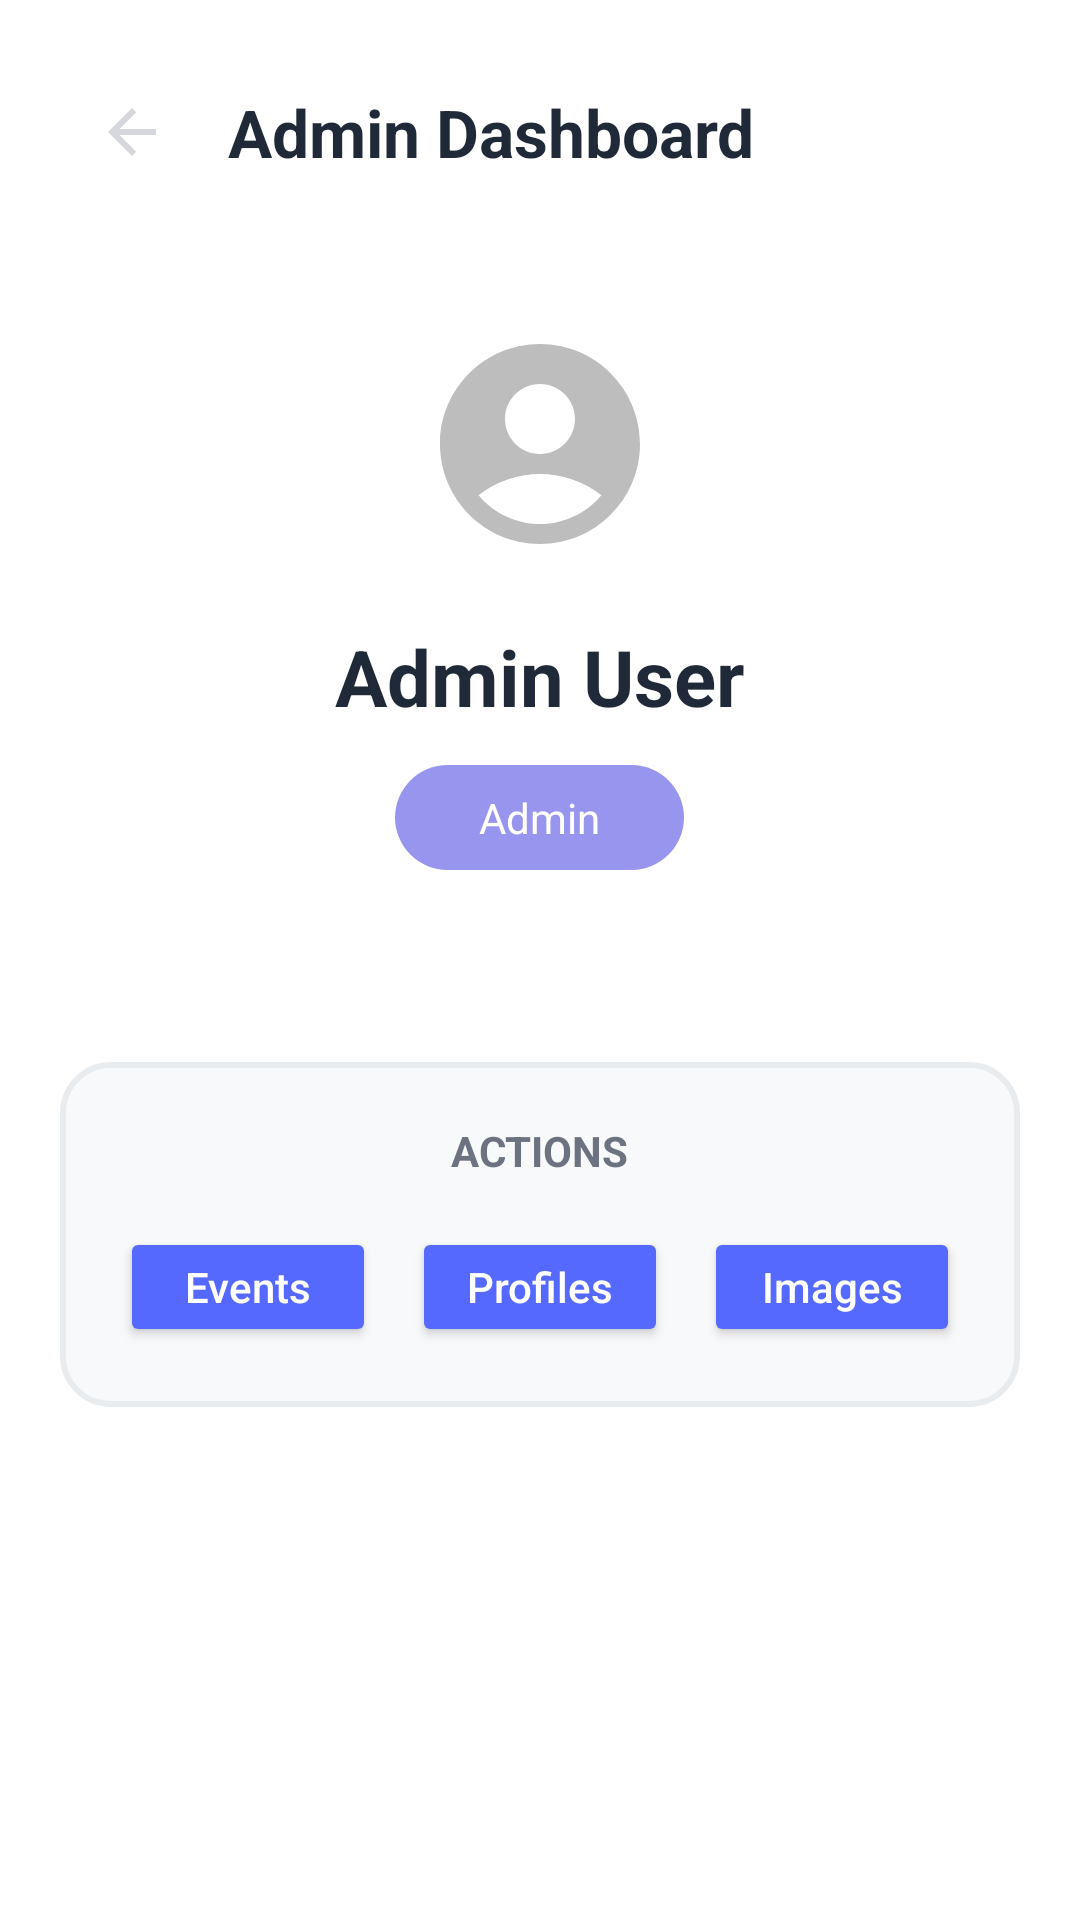

Locate icon controls on the screen. Image size 1080x1920, boxes as (x1, y1, x2, y2).
Back: (109, 109, 156, 155)
profile: (440, 344, 640, 544)
